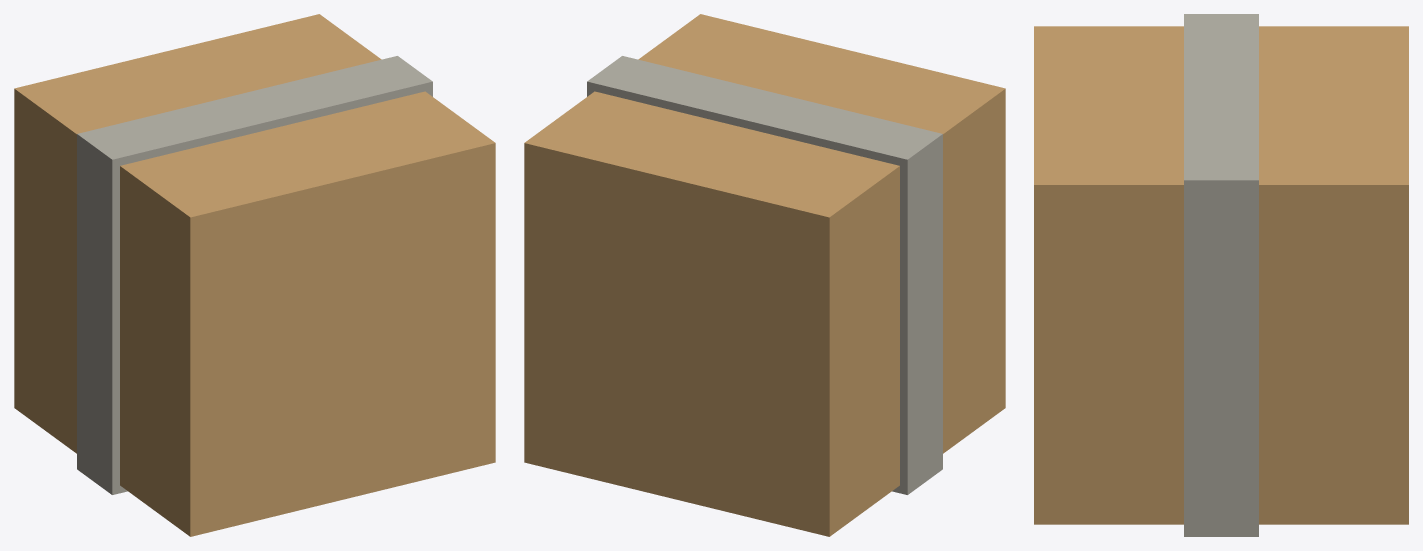
File: voxel_crate.glb
3 renders of one model, left to right at view 1: azimuth 30°, elevation 25°; view 2: azimuth 150°, elevation 25°; view 3: azimuth 270°, elevation 25°, orthographic. The views are drawn at different scales.
Visible parts, largest first — view 1: box, band; view 2: box, band; view 3: box, band.
Boxes of the visible parts, x1,y1,x2,y2 form: box: (14, 14, 495, 536); band: (77, 56, 432, 494); box: (524, 14, 1005, 536); band: (587, 56, 942, 494); box: (1034, 26, 1408, 524); band: (1184, 14, 1258, 536).
Size of the model in its own units: 0.84 by 0.84 by 0.8.
